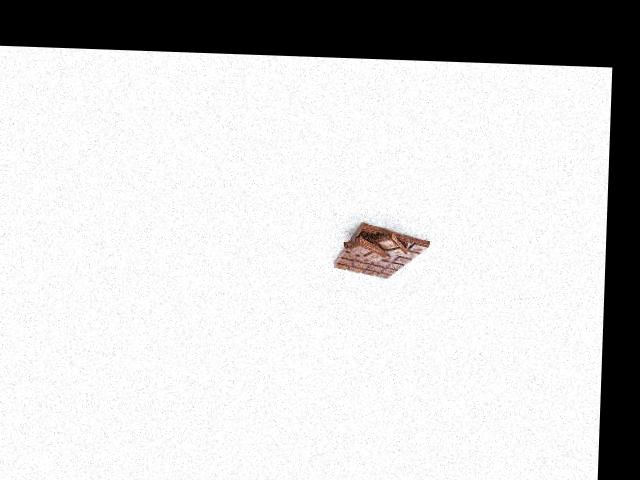chocolate: (332, 217, 432, 285)
